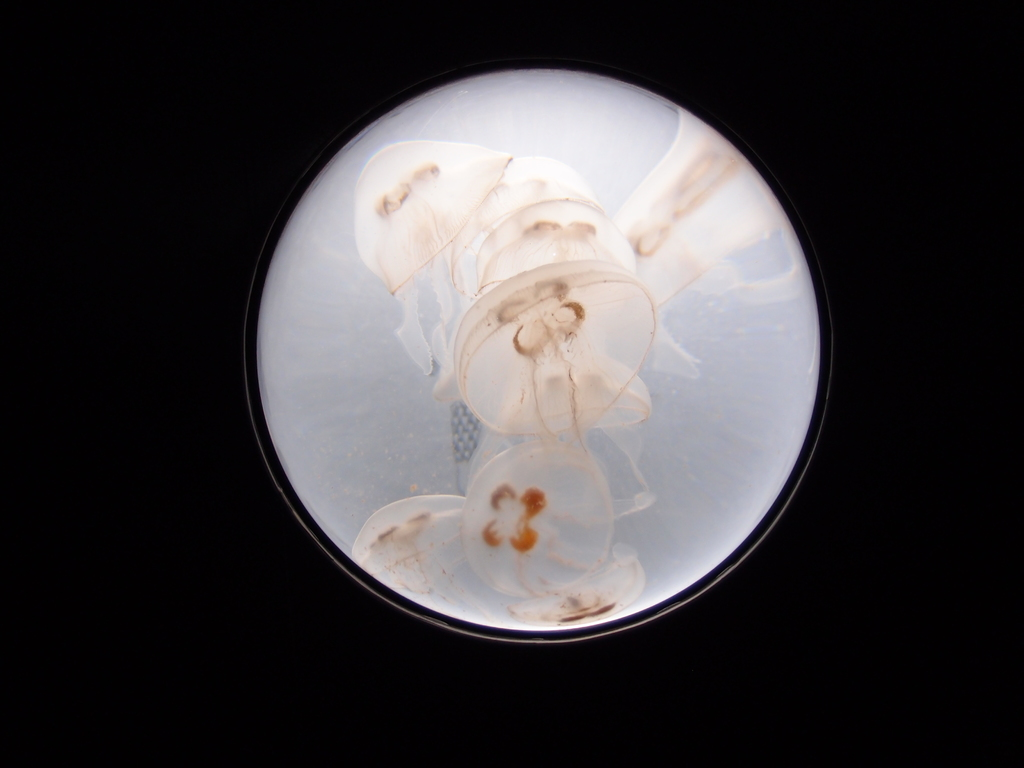Jellyfish: (351, 112, 800, 631), (350, 140, 518, 378)
